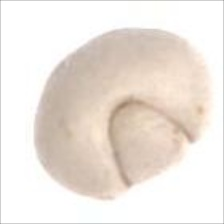L5: (106, 96, 197, 192), (41, 37, 107, 89)
L6: (29, 26, 215, 204)
